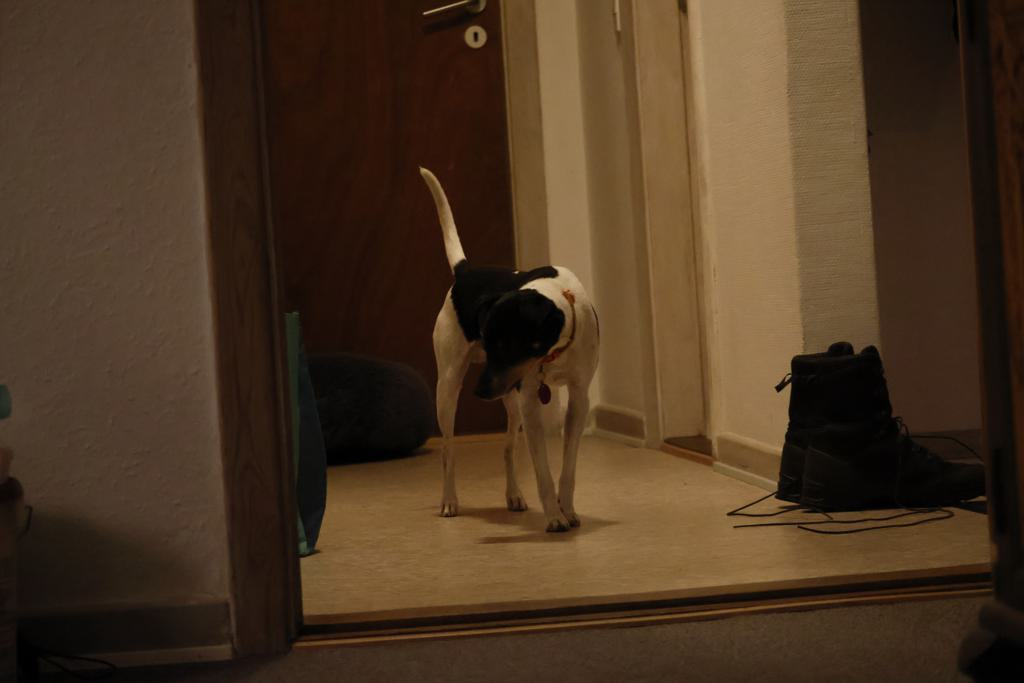Dog: (392, 154, 619, 546)
